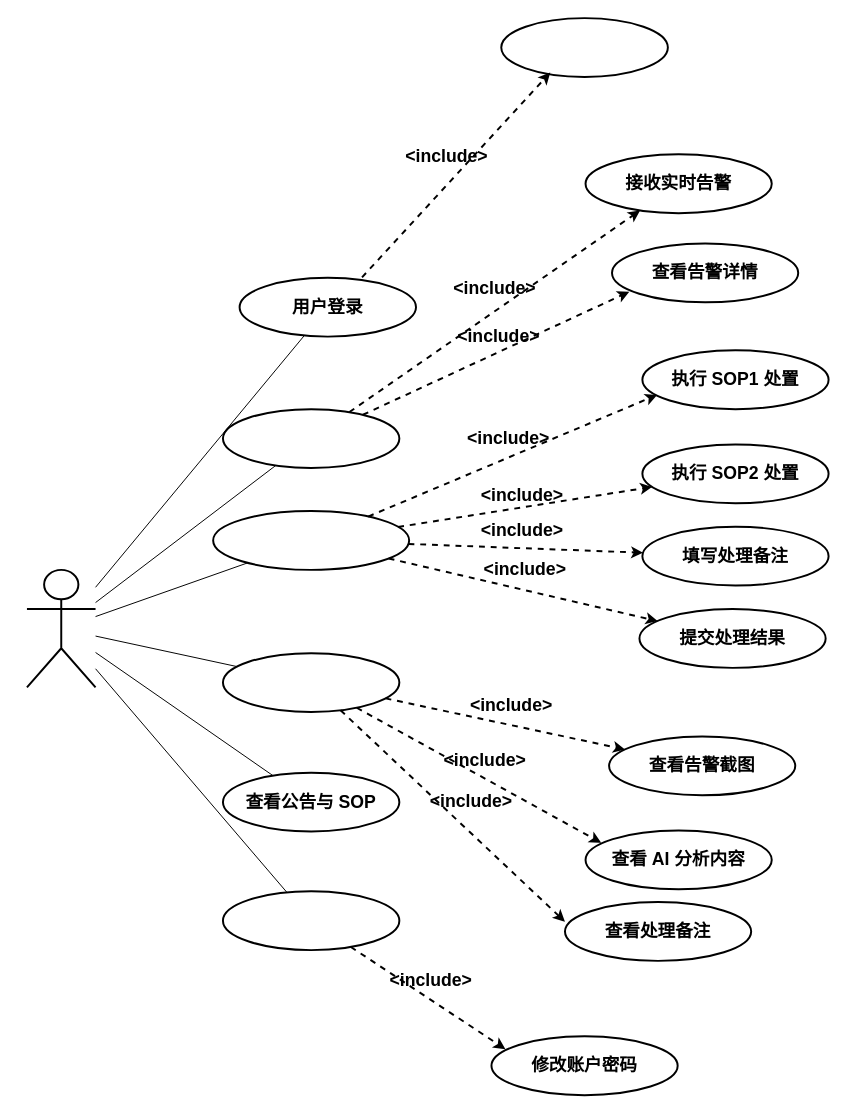
This 846x1112 diagram has some shape labels left out. Each missing label, with the centre of its shape:
"处理待处理任务" goes at point 311,540.
"安全操作员" goes at point 60,628.
"查看个人信息" goes at point 310,920.
"查看监控大屏" goes at point 310,438.
"查询历史告警" goes at point 310,682.
"用户注册" goes at point 584,47.
